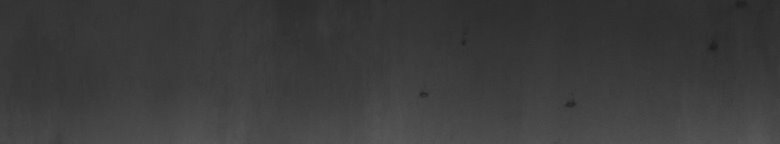fi: (565, 101, 577, 112)
